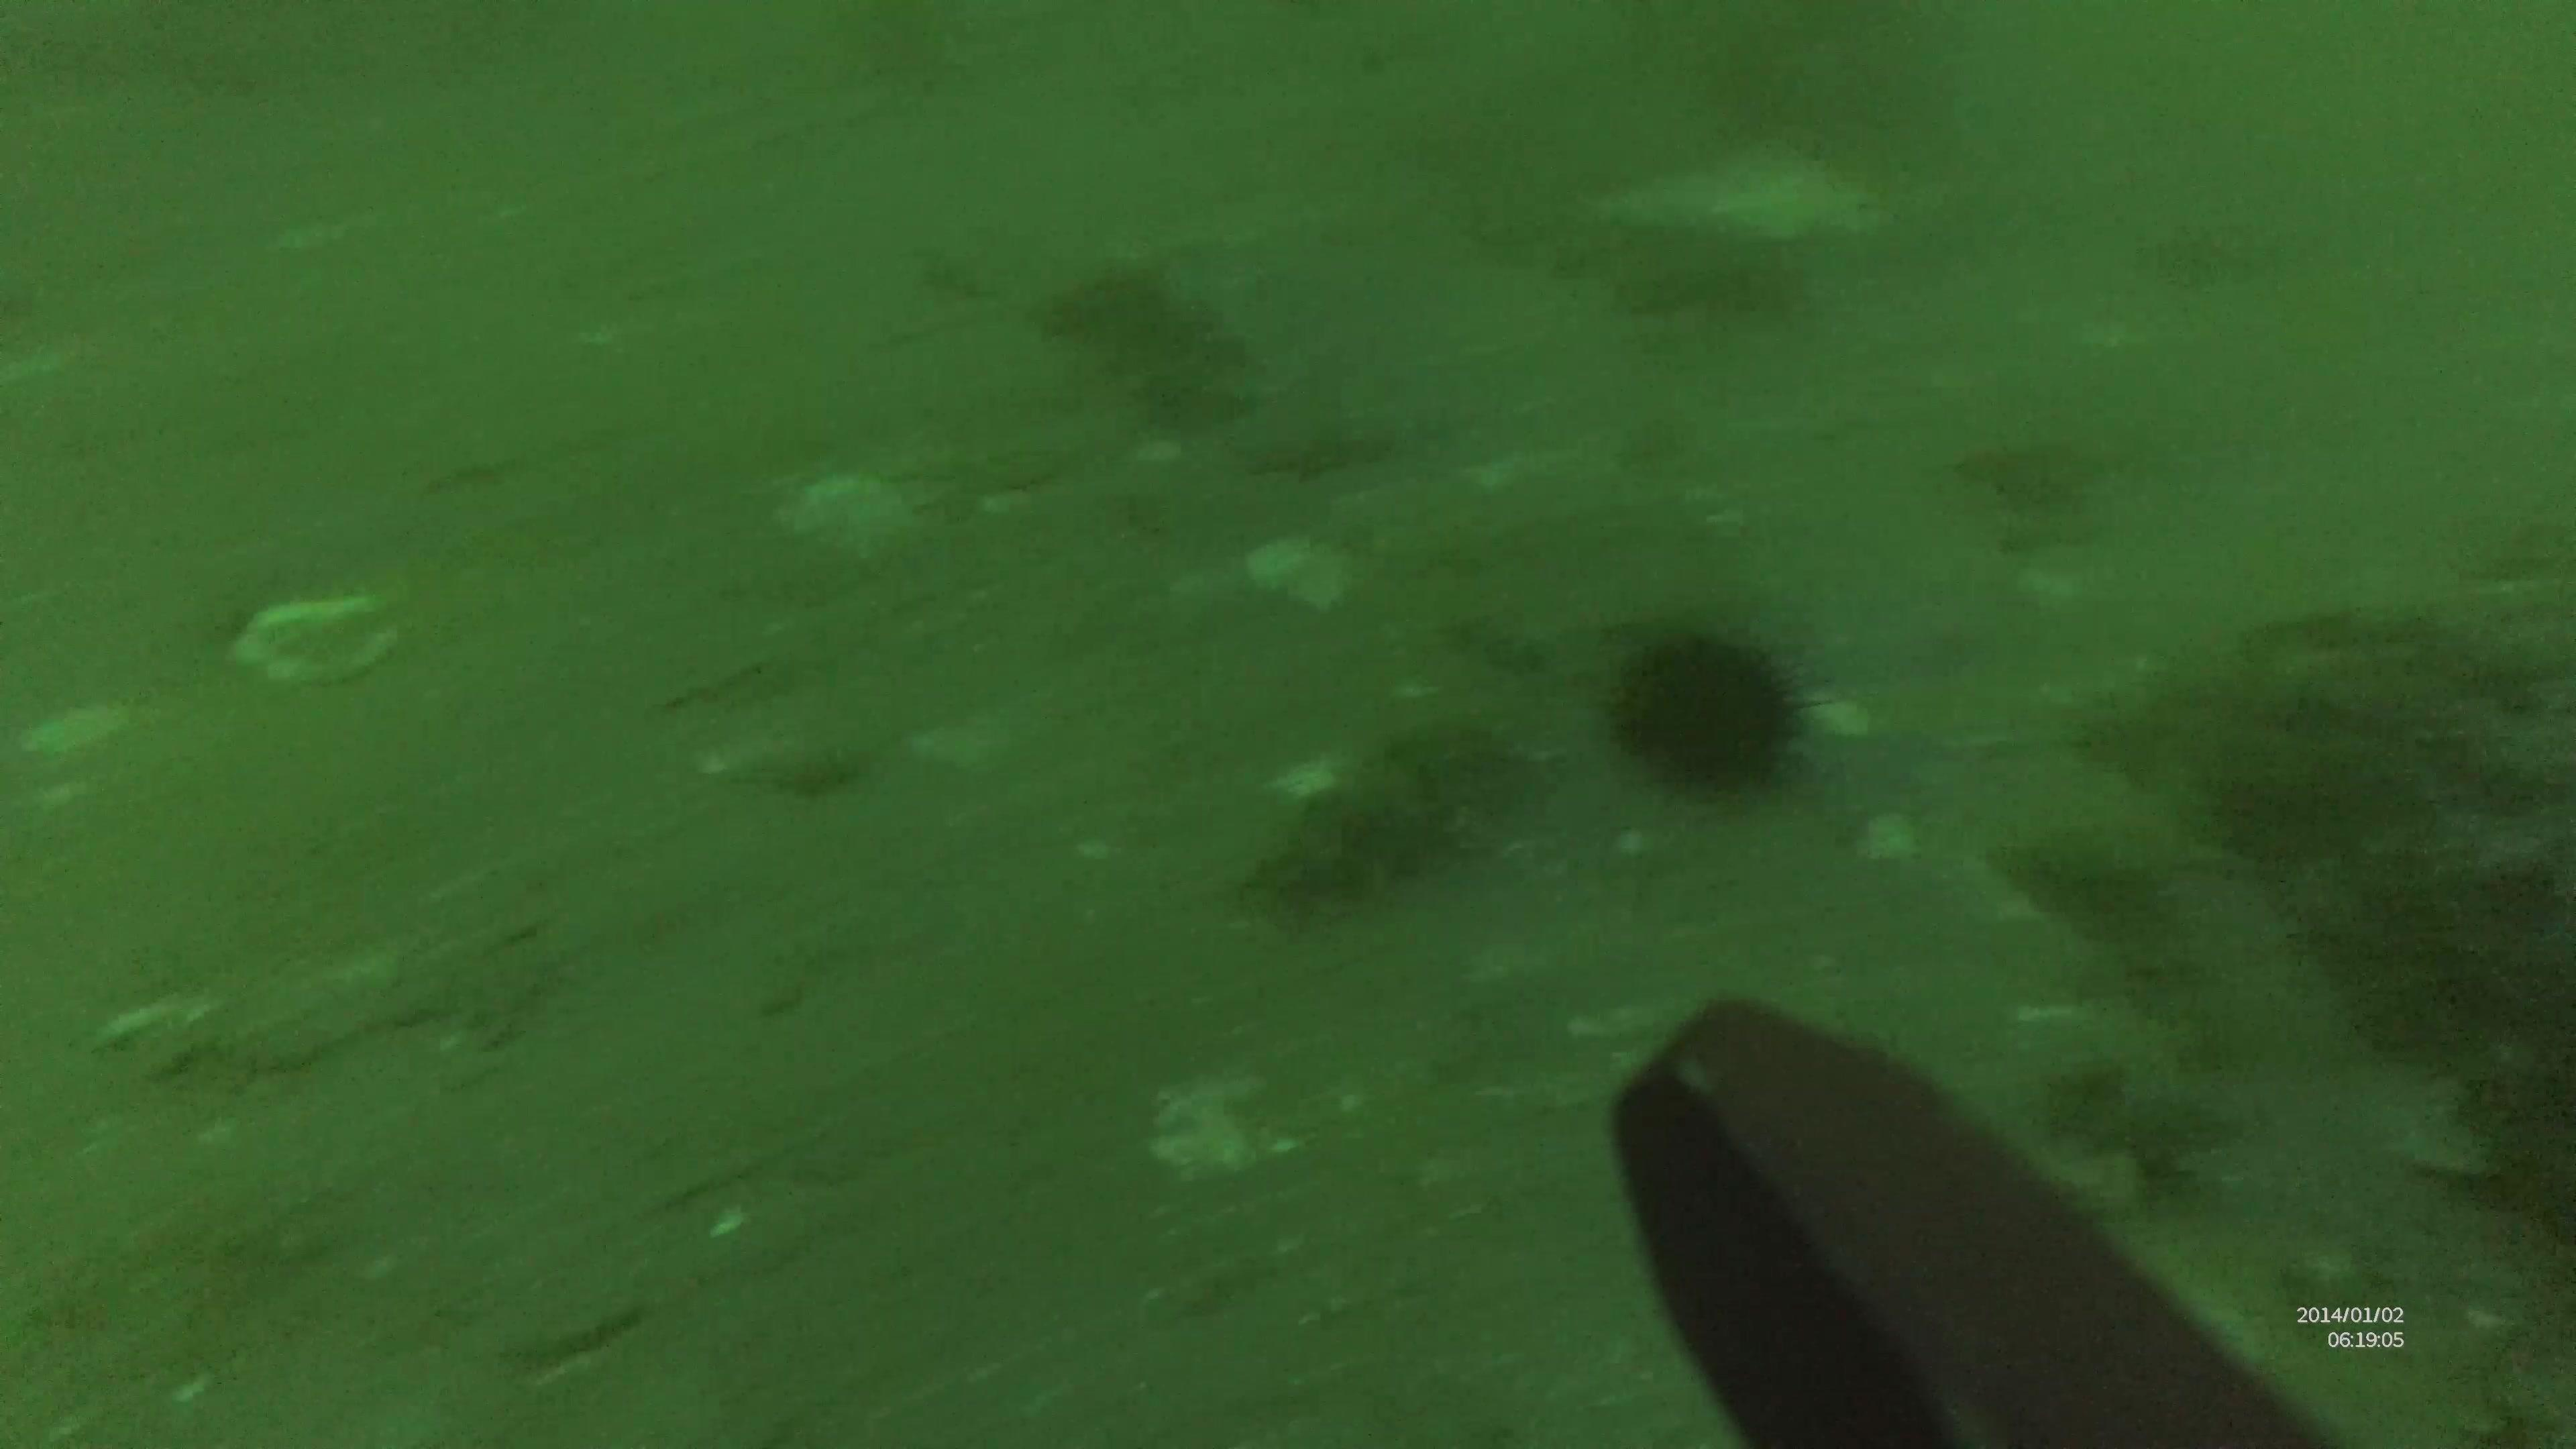echinus: (1608, 625, 1831, 805)
scallop: (1849, 796, 1925, 862), (1810, 688, 1882, 743)
